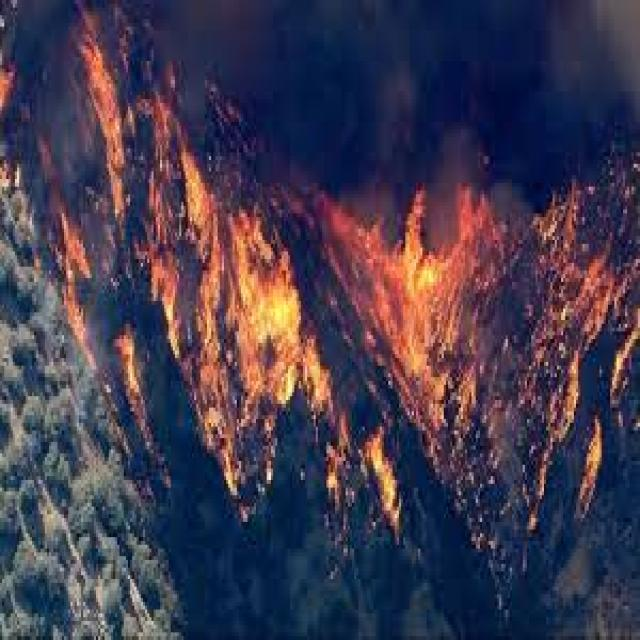Fire: (377, 189, 450, 362), (248, 259, 312, 394)
Smoke: (530, 0, 640, 140), (372, 66, 414, 171)
